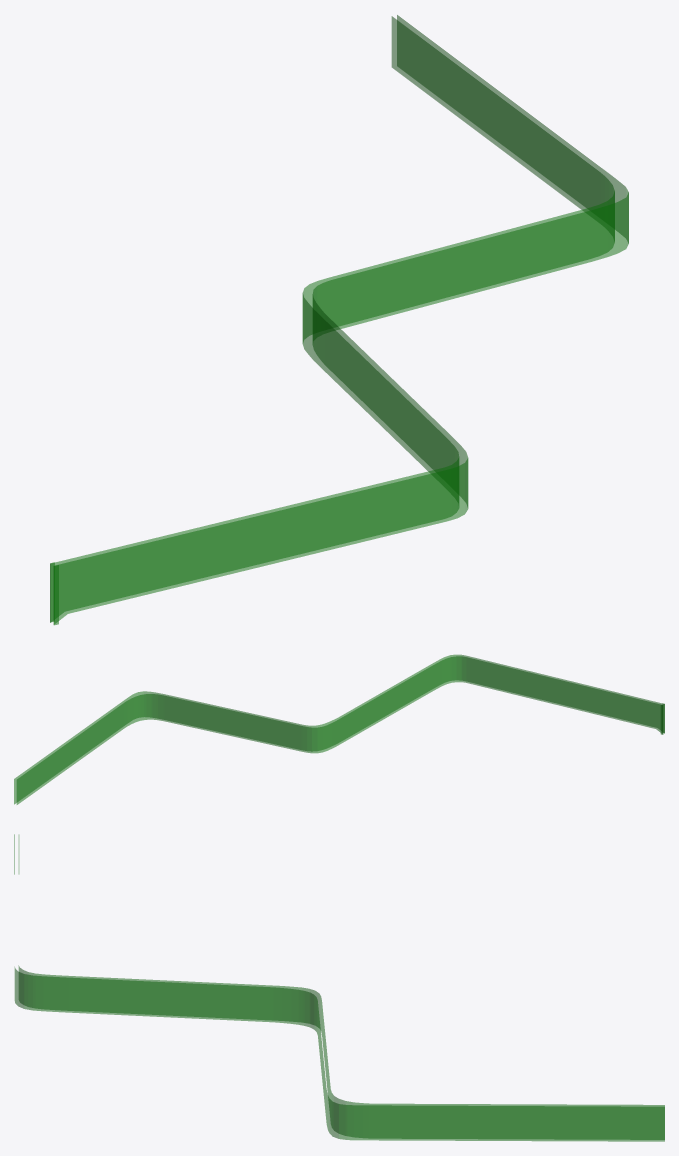
The model's file is wall6.obj.
The picture shows the model from 3 angles, top to bottom: view 1: azimuth 30°, elevation 25°; view 2: azimuth 150°, elevation 25°; view 3: azimuth 270°, elevation 25°; orthographic projection. The views are drawn at different scales.
Size of the model in its own units: 1974 by 136 by 1994.
